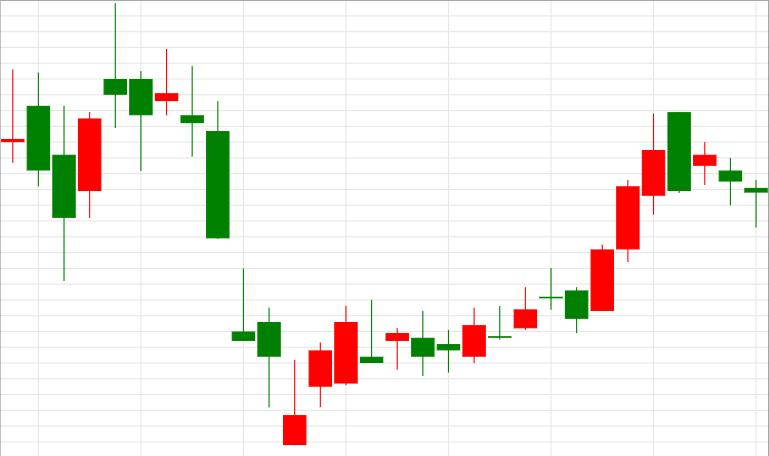inverse_hammer_rise: (180, 66, 306, 445)
